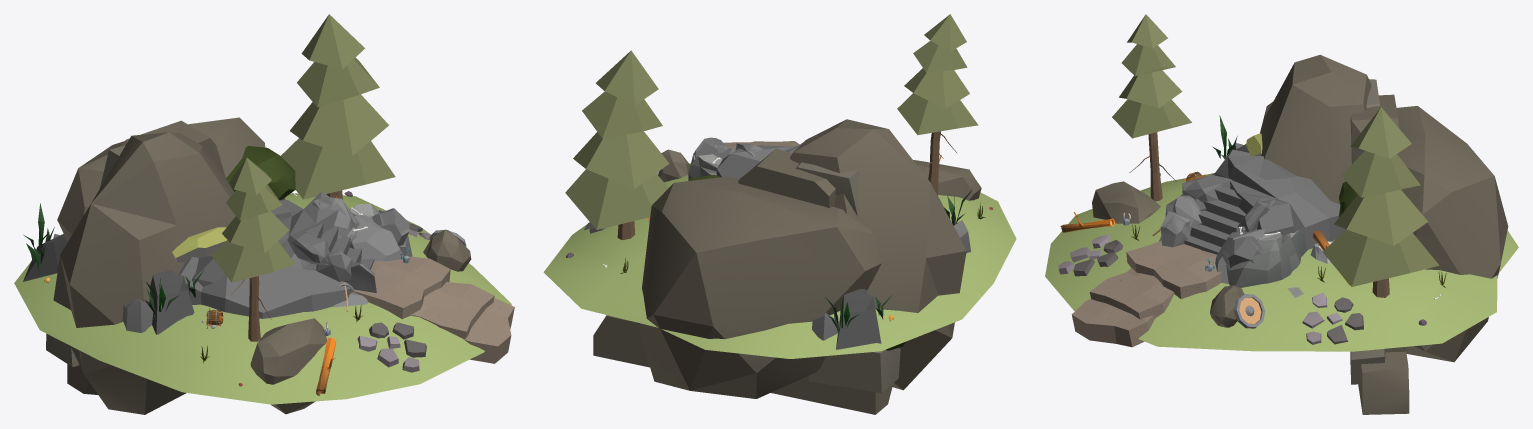
File: Unity2Skfb.gltf
3 renders of one model, left to right at view 1: azimuth 30°, elevation 25°; view 2: azimuth 150°, elevation 25°; view 3: azimuth 270°, elevation 25°, orthographic. The views are drawn at different scales.
Visible parts, largest first — view 1: steppe grass, BigStone2, Tree2, Stairs, Tree1, MediumStone1, BigStone1, Ruins, BigStone3, Pavement1, RockHerb1, Pavement2 (+7 smaller); view 2: BigStone1, steppe grass, BigStone2, Tree2, Ruins, Tree1, RockHerb2, BigStone3, MediumStone2, Stairs, SmallRock, MediumStone3 (+1 smaller); view 3: steppe grass, BigStone1, Tree2, BigStone2, Stairs, MediumStone2, Tree1, Ruins, Pavement1, MediumStone3, Pavement2, pavement3 (+5 smaller).
Boxes of the visible parts, bbox=[...] form: steppe grass: bbox=[14, 193, 511, 404]; BigStone2: bbox=[53, 132, 235, 414]; Tree2: bbox=[281, 14, 395, 199]; Stairs: bbox=[287, 197, 409, 307]; Tree1: bbox=[211, 157, 294, 341]; MediumStone1: bbox=[178, 253, 352, 318]; BigStone1: bbox=[57, 117, 265, 241]; Ruins: bbox=[46, 120, 295, 394]; BigStone3: bbox=[250, 318, 326, 414]; Pavement1: bbox=[352, 256, 450, 319]; RockHerb1: bbox=[122, 270, 203, 334]; Pavement2: bbox=[411, 282, 494, 338]; BigStone1: bbox=[637, 176, 881, 398]; steppe grass: bbox=[543, 163, 1016, 358]; BigStone2: bbox=[790, 119, 966, 390]; Tree2: bbox=[565, 50, 669, 240]; Ruins: bbox=[593, 148, 906, 414]; Tree1: bbox=[897, 14, 978, 195]; RockHerb2: bbox=[812, 289, 892, 349]; BigStone3: bbox=[913, 160, 981, 200]; MediumStone2: bbox=[716, 144, 800, 178]; Stairs: bbox=[694, 137, 802, 158]; SmallRock: bbox=[658, 149, 690, 182]; MediumStone3: bbox=[688, 153, 724, 180]; steppe grass: bbox=[1045, 173, 1518, 351]; BigStone1: bbox=[1351, 106, 1508, 362]; Tree2: bbox=[1322, 107, 1439, 297]; BigStone2: bbox=[1260, 54, 1371, 203]; Stairs: bbox=[1159, 174, 1277, 284]; MediumStone2: bbox=[1214, 149, 1345, 250]; Tree1: bbox=[1112, 14, 1191, 201]; Ruins: bbox=[1338, 79, 1409, 414]; Pavement1: bbox=[1126, 240, 1221, 298]; MediumStone3: bbox=[1226, 230, 1306, 287]; Pavement2: bbox=[1089, 267, 1174, 319]; pavement3: bbox=[1071, 299, 1154, 347].
Size of what is drawn, in the model's own units: 31.02 by 23.69 by 34.17.
Materials: 22 (11 with a texture image).
